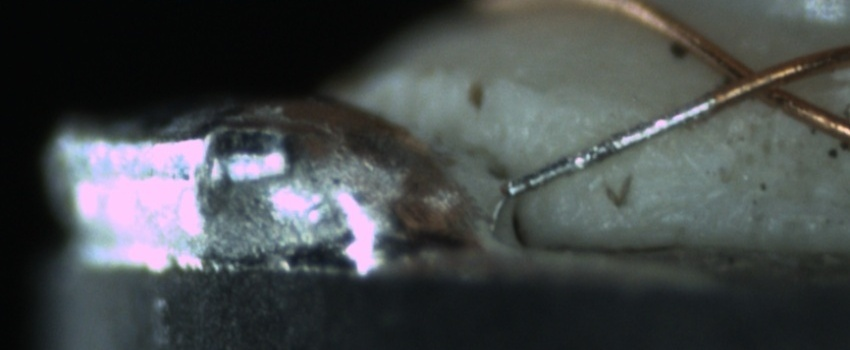CL: (707, 50, 808, 113)
TS: (499, 98, 711, 199)
TTCW: (494, 66, 762, 198)
